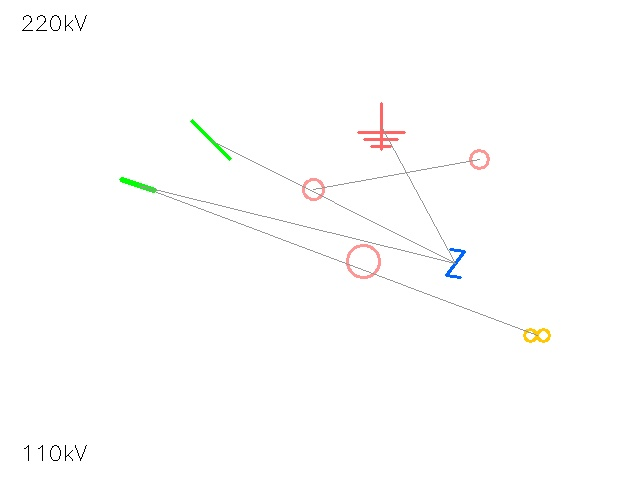busbar: (178, 107, 244, 173), (116, 163, 160, 207)
circuit_breaker: (440, 248, 470, 278)
disconnect_switch: (330, 228, 396, 294)
fuse: (293, 169, 333, 209)
ground: (358, 103, 404, 149)
reactor: (461, 141, 497, 177)
transformer_2w: (520, 318, 554, 352)
